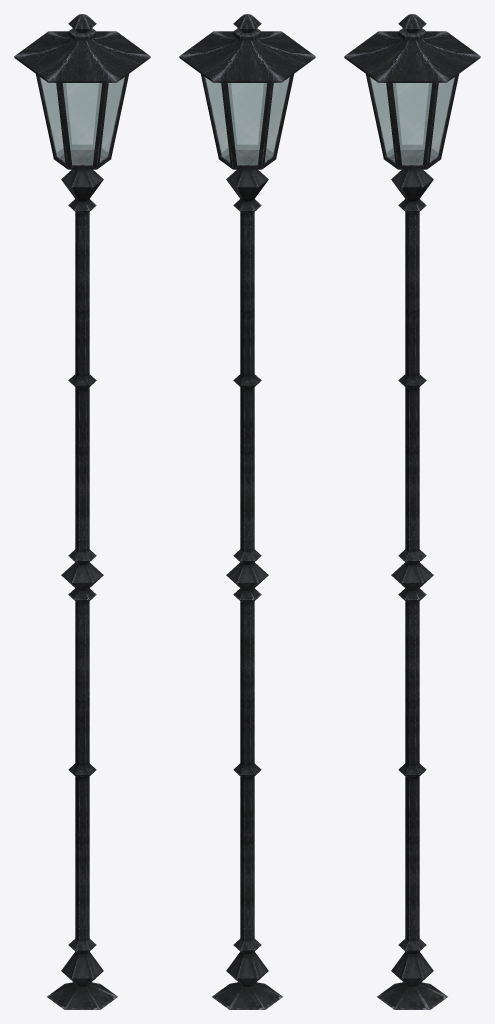
The model's file is Lamp.obj.
3 renders of one model, left to right at view 1: azimuth 30°, elevation 25°; view 2: azimuth 150°, elevation 25°; view 3: azimuth 330°, elevation 25°, orthographic.
Visible parts, largest first — view 1: Lamp, Glass; view 2: Lamp, Glass; view 3: Lamp, Glass.
Part boxes in pixels (x1=…): Lamp: x1=14, y1=14, x2=150, y2=1009; Glass: x1=40, y1=77, x2=124, y2=164; Lamp: x1=179, y1=14, x2=315, y2=1009; Glass: x1=205, y1=77, x2=289, y2=164; Lamp: x1=344, y1=14, x2=480, y2=1009; Glass: x1=370, y1=77, x2=454, y2=164.
Bounding box in the file's own units: 1.65 × 15.15 × 1.9.
Materials: 2 (2 with a texture image).
